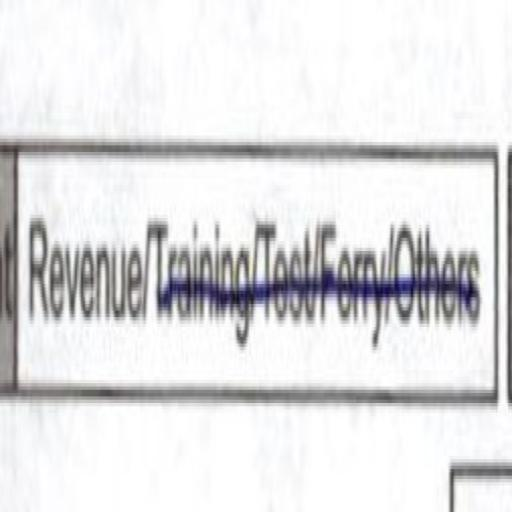check: (24, 151, 146, 394)
